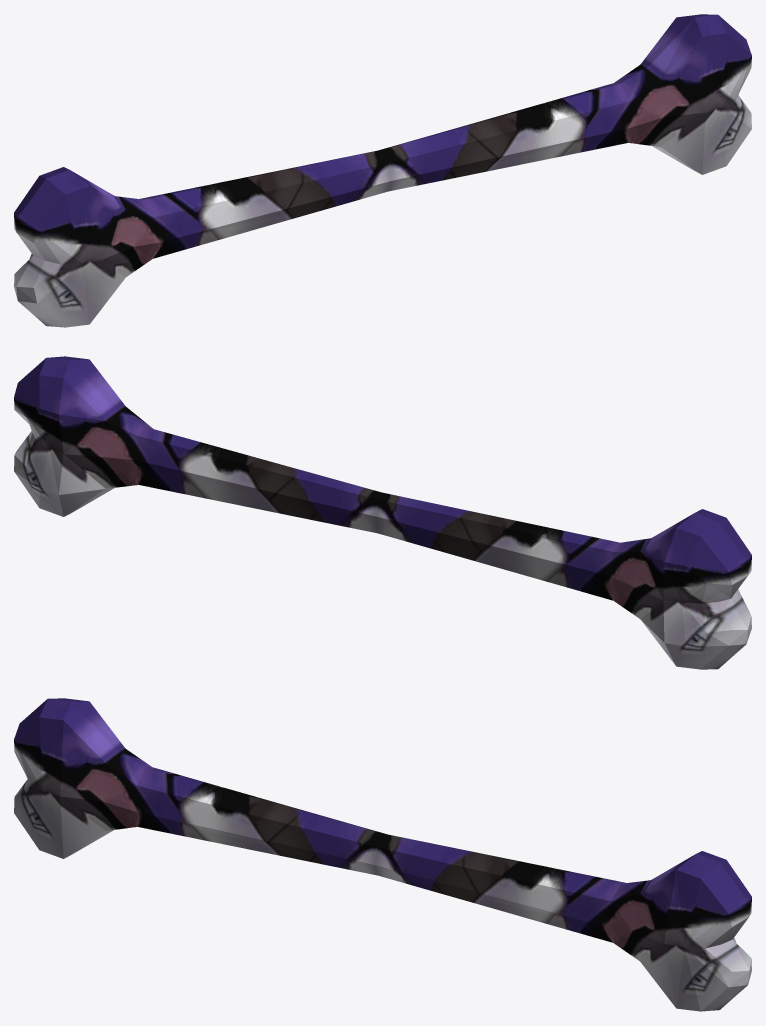
Rendered from 0031_HT_FX_ALuoLaGaLaGaLa_galagala_Mesh_gutou.glb.
3 views of the same model, one above another, from view 1: azimuth 30°, elevation 25°; view 2: azimuth 150°, elevation 25°; view 3: azimuth 330°, elevation 25° (orthographic).
Size of the model in its own units: 2.2 by 0.4422 by 0.2197.
1 material, 1 textured.
